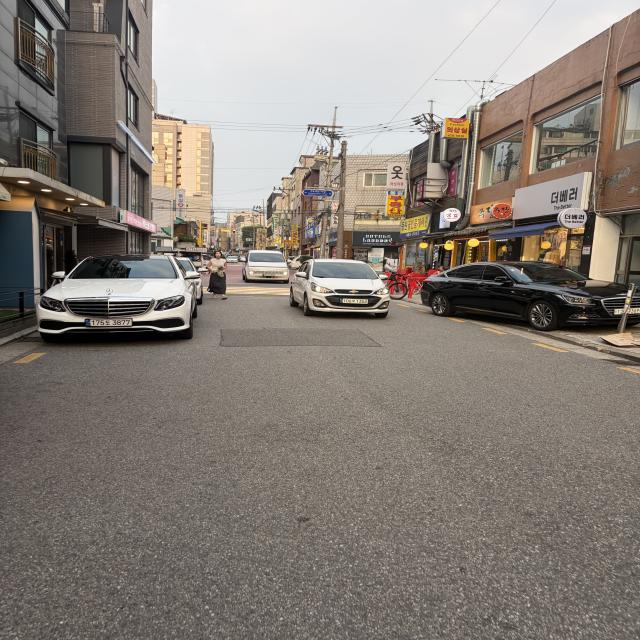car: (21, 236, 226, 362), (414, 253, 640, 342), (284, 251, 404, 335), (242, 245, 292, 288)
